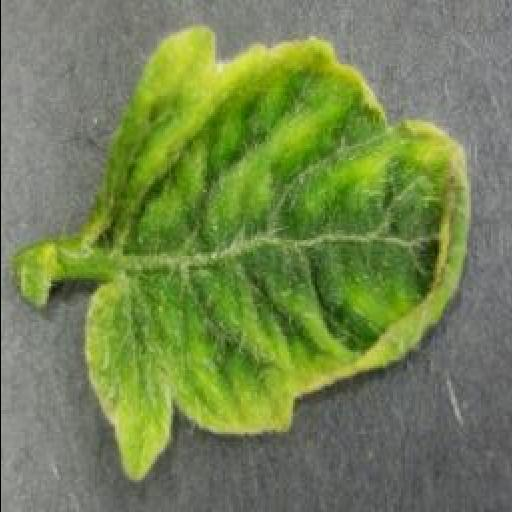disease_tomato: (82, 24, 474, 482)
